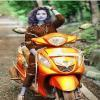motorcycles: (16, 34, 92, 99)
